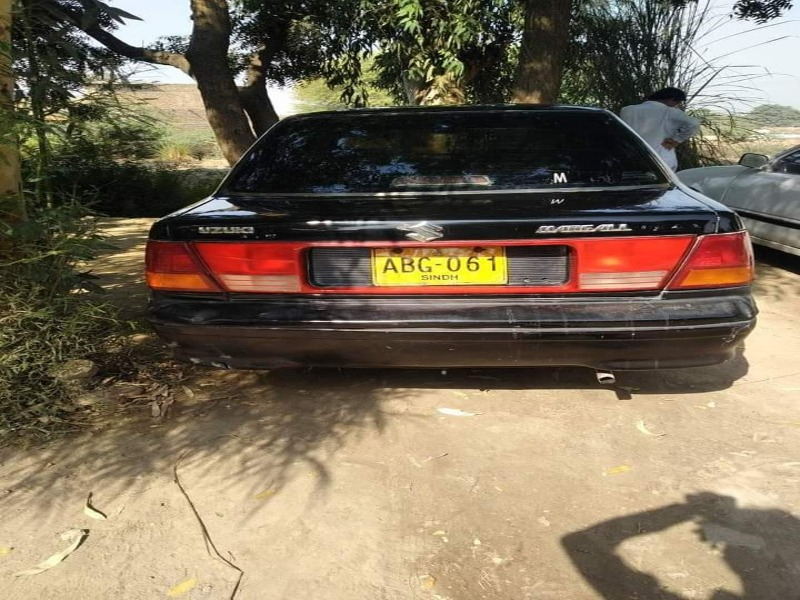License Plate: (366, 241, 510, 290)
